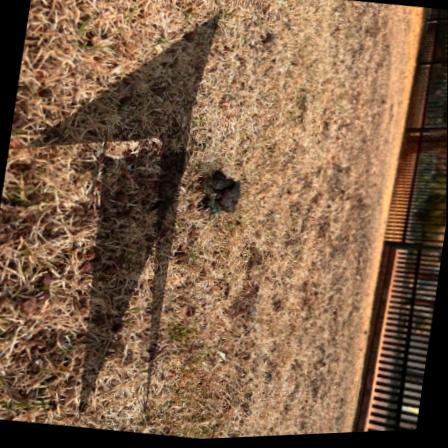dog-poop: (198, 173, 244, 220)
